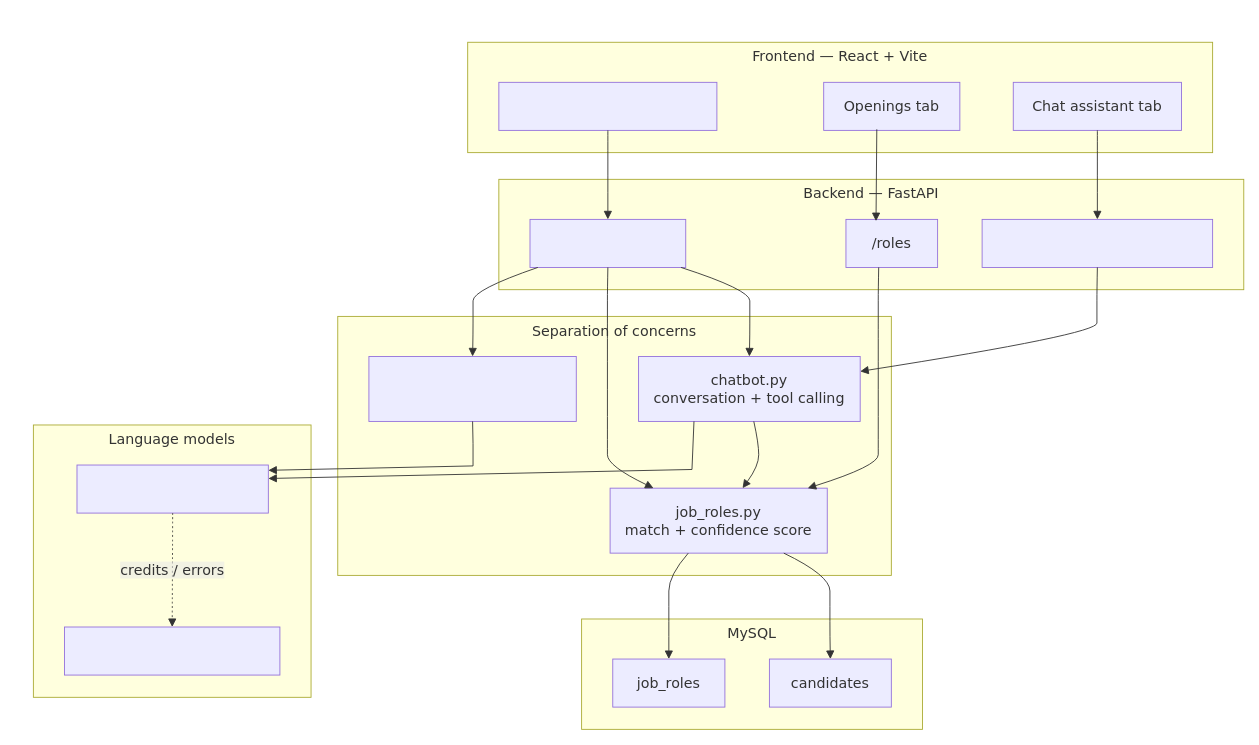
The diagram is 1259 pixels wide and 745 high, and some of its shapes have lost their labels. Each missing label, with the centre of its shape:
/chat /session /quick-apply: pixel 1097 242
/upload-resume: pixel 607 242
Gemini keys 1…n fallback: pixel 172 650
OpenRouter — Claude: pixel 172 488
Resume upload PDF / TXT: pixel 607 105
resume_parser.py text extract + LLM JSON: pixel 472 388
